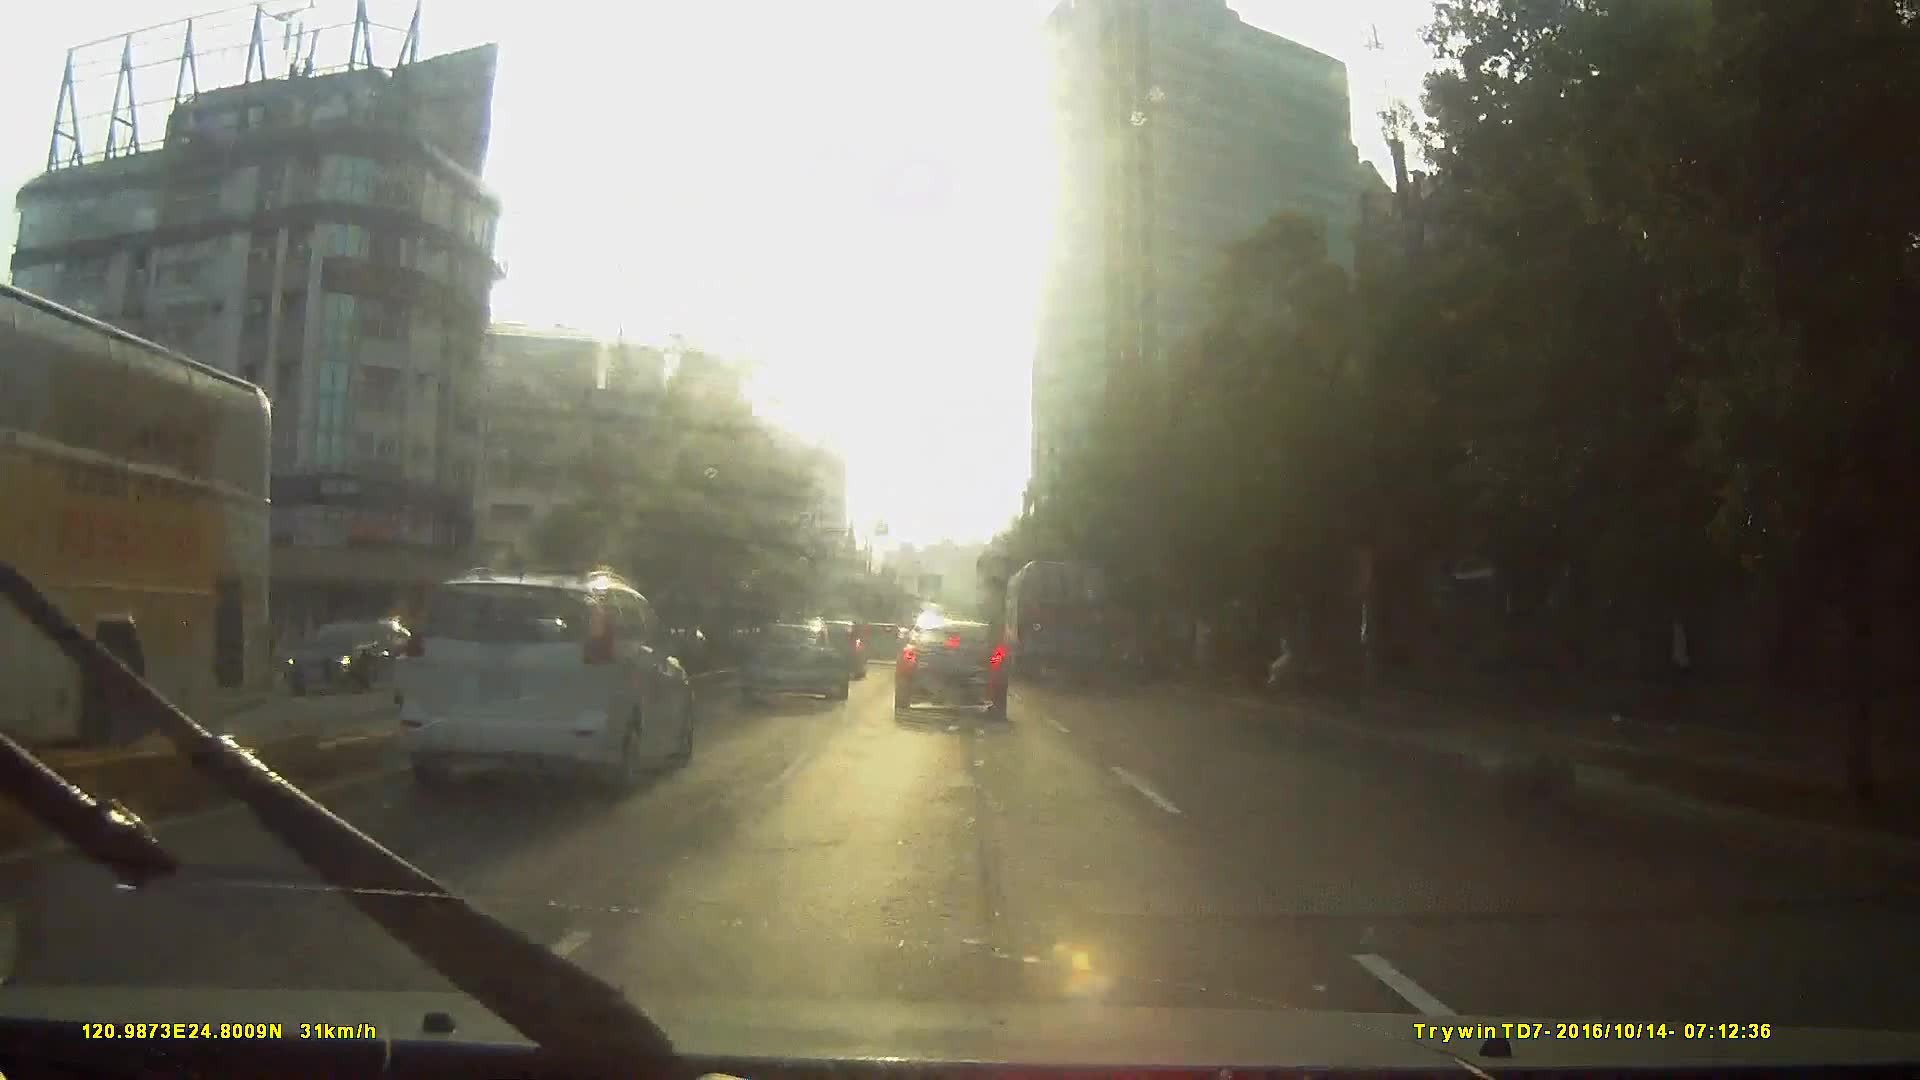pedestrian: (1635, 579, 1711, 743)
vehicle: (1, 284, 283, 805), (250, 556, 684, 868), (395, 568, 691, 794), (268, 615, 436, 701), (1004, 556, 1111, 684), (890, 612, 1006, 720), (736, 621, 845, 704), (853, 616, 902, 665)
